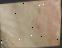plaque psoriasis: (11, 0, 62, 48)
